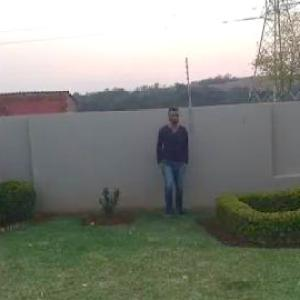follow: (152, 100, 190, 227)
